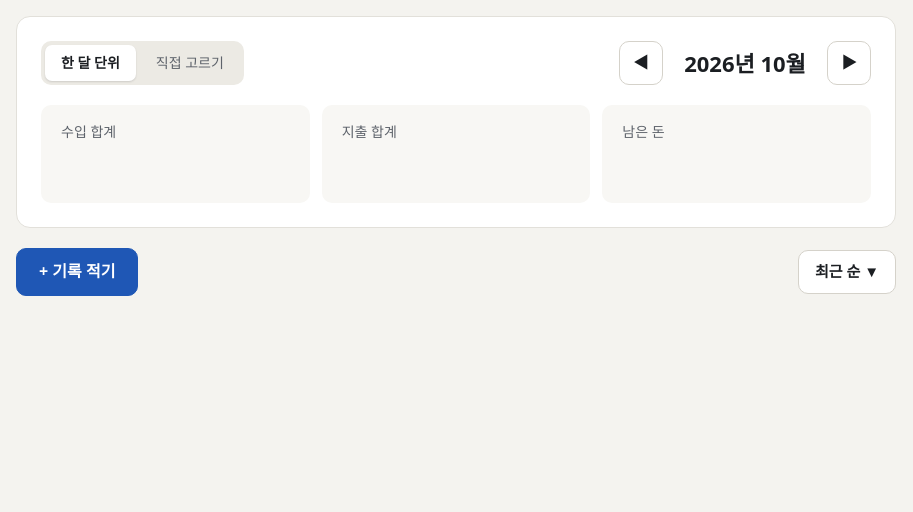
Test: 기간을 빨리 바꾸면 늦게 온 이전 응답은 버린다
Click the button named "다음 달". click: {"x": 849, "y": 63}
box: left=827, top=41, right=871, bottom=85
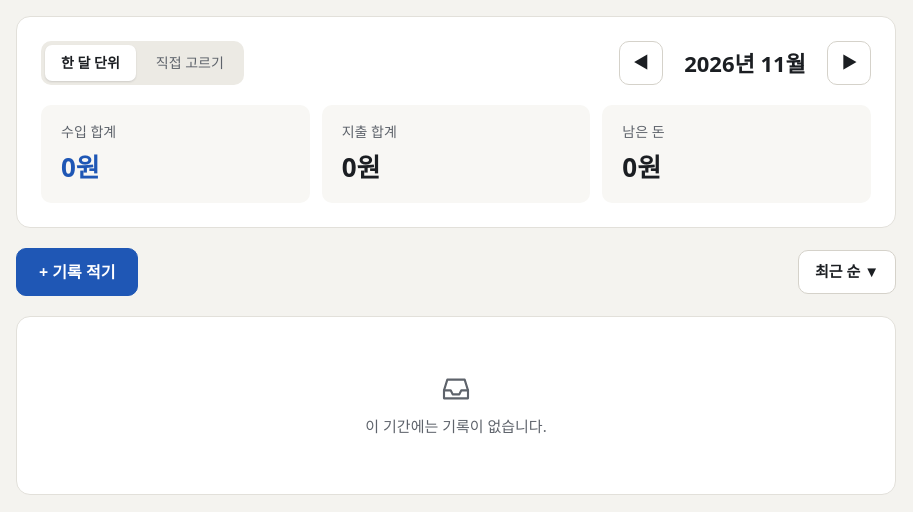
Expected: the text "이 기간에는 기록이 없습니다." is shown, left=365, top=415, right=547, bottom=438
